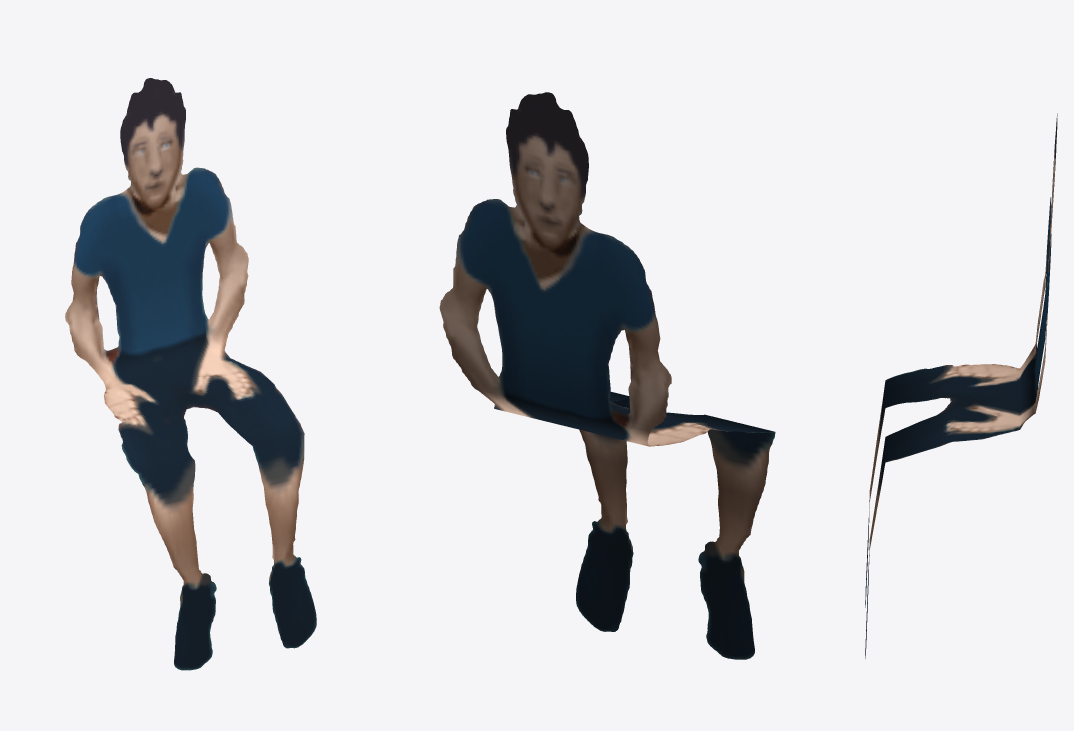
Rendered from SatPeople.fbx.
3 renders of one model, left to right at view 1: azimuth 30°, elevation 25°; view 2: azimuth 150°, elevation 25°; view 3: azimuth 270°, elevation 25°, orthographic. The views are drawn at different scales.
Visible parts, largest first — view 1: pPlane1; view 2: pPlane1; view 3: pPlane1.
Part boxes in pixels (box(x1,y1,x2,y2)): pPlane1: box(65, 78, 316, 670); pPlane1: box(439, 92, 775, 659); pPlane1: box(865, 113, 1057, 658).
Bounding box in the file's own units: 92.99 × 198 × 60.81.
1 material, 1 textured.
